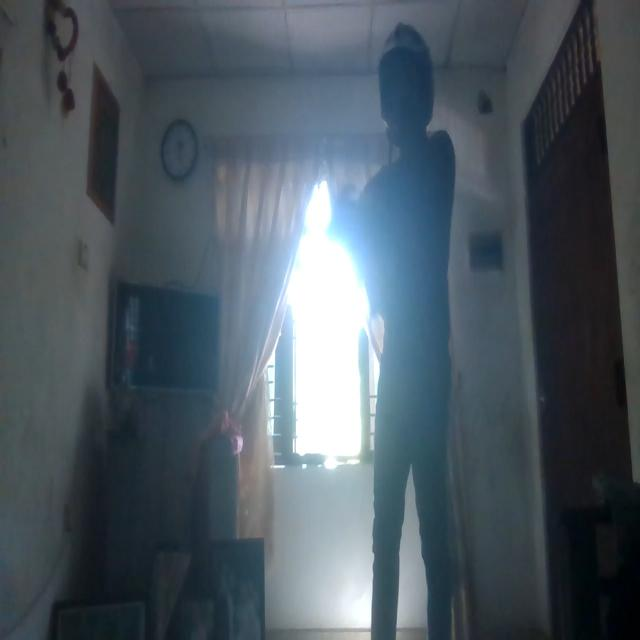Helmet_Wearer: (368, 25, 436, 150)
Person: (350, 28, 468, 636)
